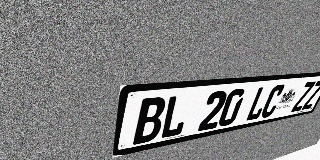0: (217, 88, 247, 128)
2: (198, 90, 229, 132)
B: (133, 96, 167, 145)
C: (259, 84, 286, 119)
L: (159, 94, 192, 140), (244, 85, 273, 122)
Z: (290, 81, 316, 112), (301, 80, 320, 110)
